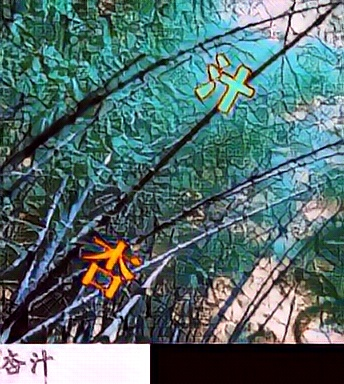D0D3: (74, 232, 140, 296)
D6AD: (189, 52, 255, 116)
